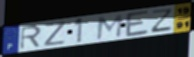1: (73, 17, 84, 45)
E: (125, 9, 151, 39)
M: (95, 14, 124, 41)
R: (19, 25, 43, 51)
Z: (149, 7, 174, 34), (43, 21, 68, 48)
